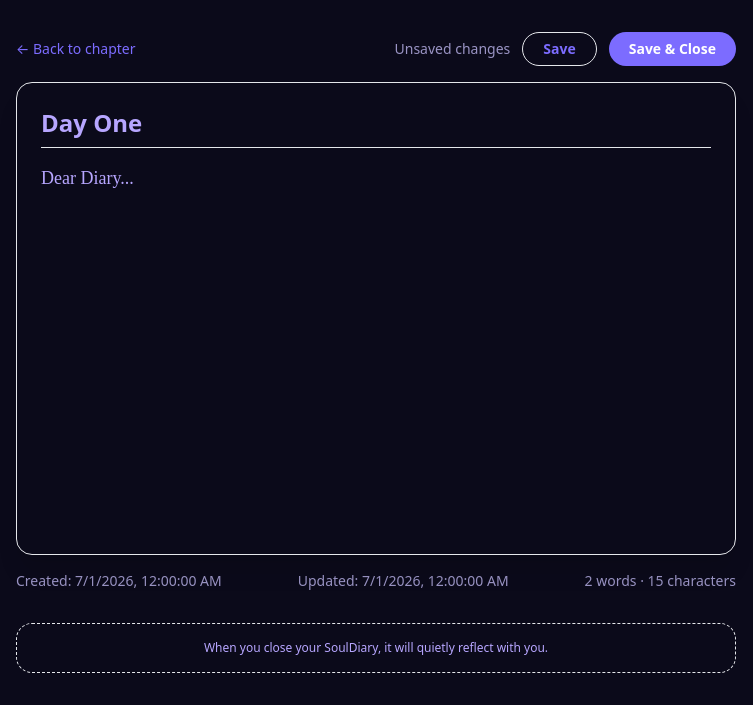
WritingPage › failed reflection still keeps the page safe (gentle fallback)
expect the text box named "Writing area" is shown: met, box 41,164 -> 711,524
What coordinates should you click on to do the following:
click the button "Save & Close"
I would click on:
 (672, 49)
Its box is 609,32 -> 736,66.
(page scrolled)
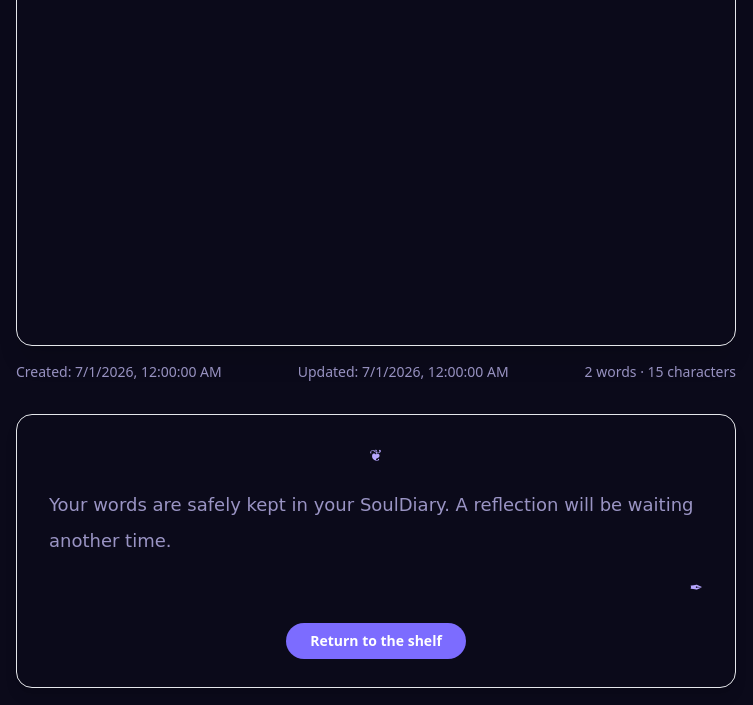
expect the text "safely kept in your SoulDiary" is shown: met, box 49,494 -> 694,551
